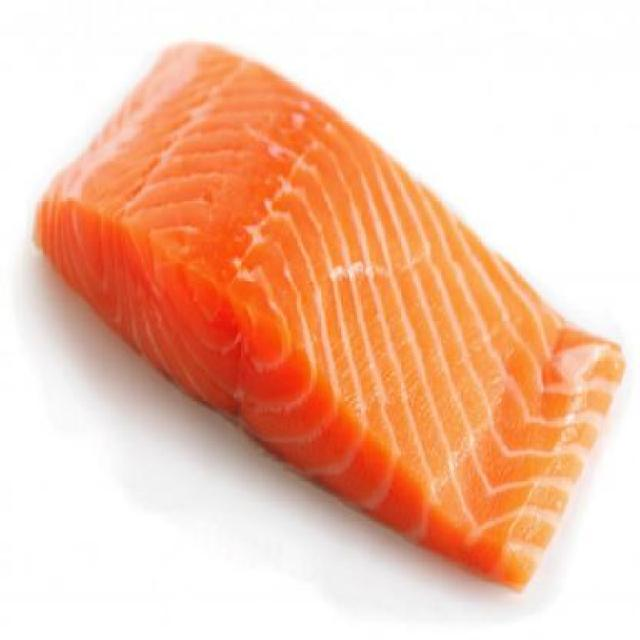salmon: (31, 29, 624, 596)
